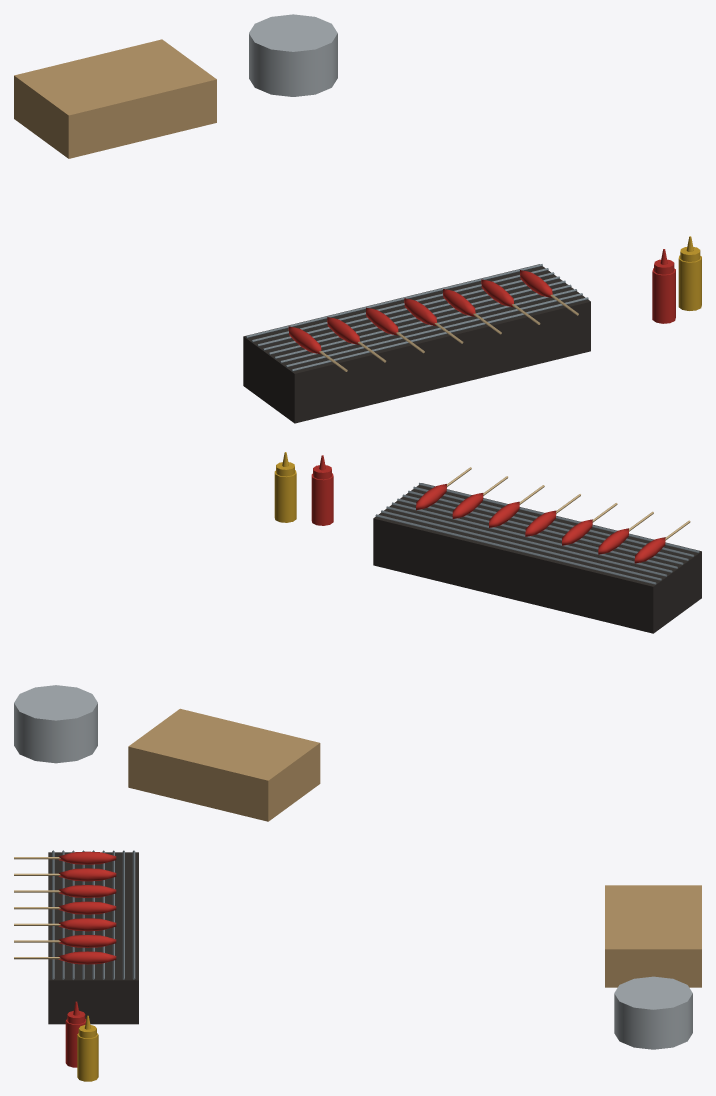
The model's file is goods_frank.glb.
3 renders of one model, top to bottom at view 1: azimuth 30°, elevation 25°; view 2: azimuth 150°, elevation 25°; view 3: azimuth 270°, elevation 25°, orthographic. The views are drawn at different scales.
Visible parts, largest first — view 1: goods_frank; view 2: goods_frank; view 3: goods_frank.
Part boxes in pixels (bbox=[...]): goods_frank: bbox=[14, 14, 701, 423]; goods_frank: bbox=[14, 452, 701, 821]; goods_frank: bbox=[14, 850, 701, 1081].
Size of the model in its own units: 1.44 by 0.224 by 2.27.
